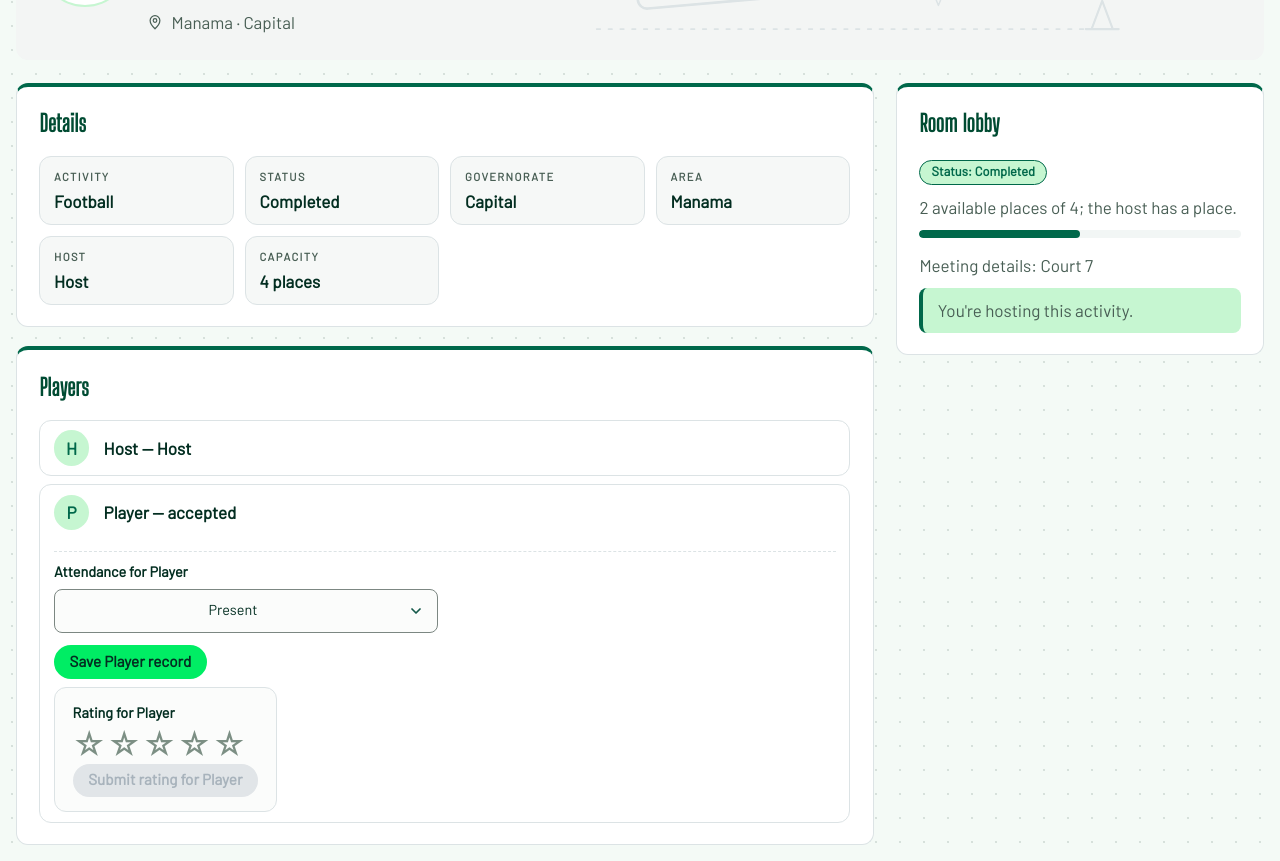
it: room lobby access and admission › host rating › shows the backend detail when the player was already rated (409)
(page scrolled)
Click the radio button named "3 stars": (159,743) [143,727,176,759]
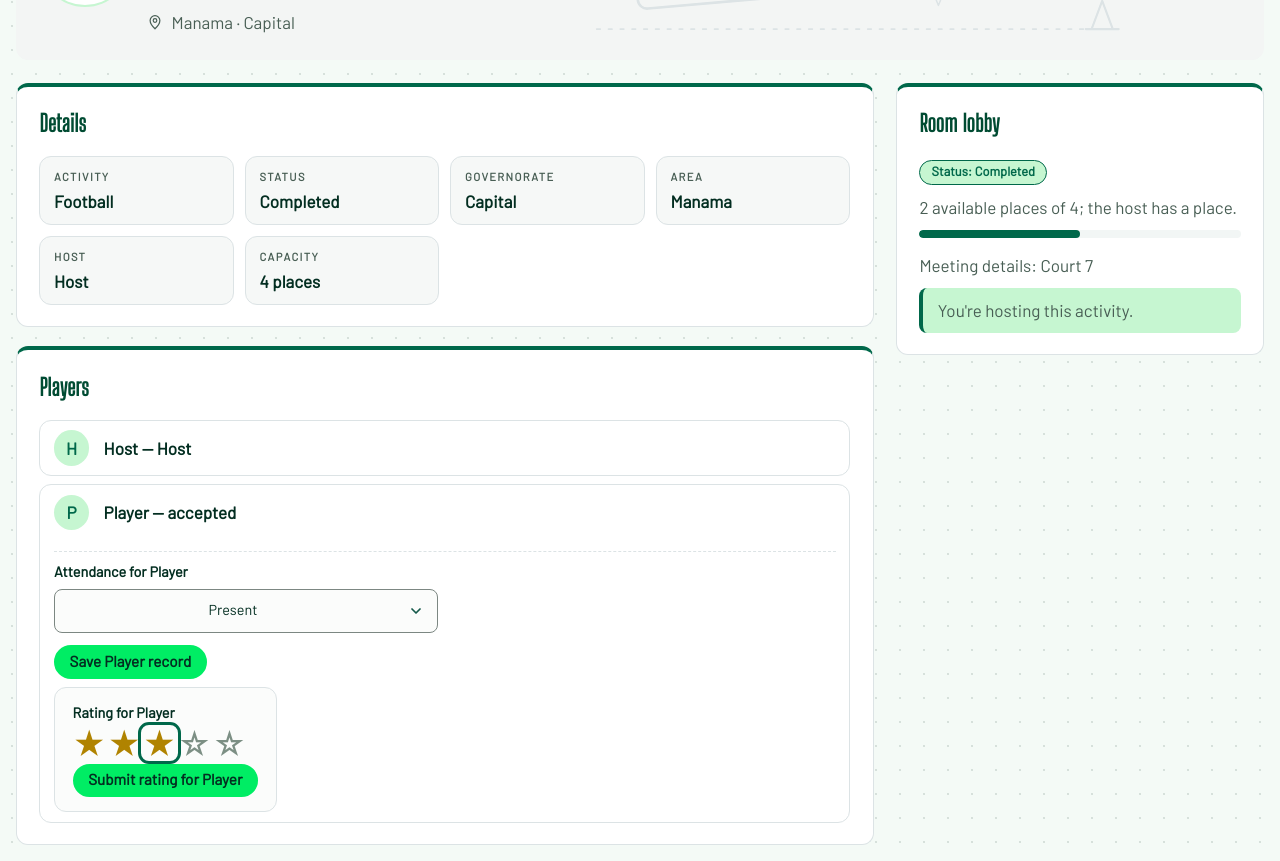
Click the button "Submit rating for Player": (165,780) [73,764,258,797]
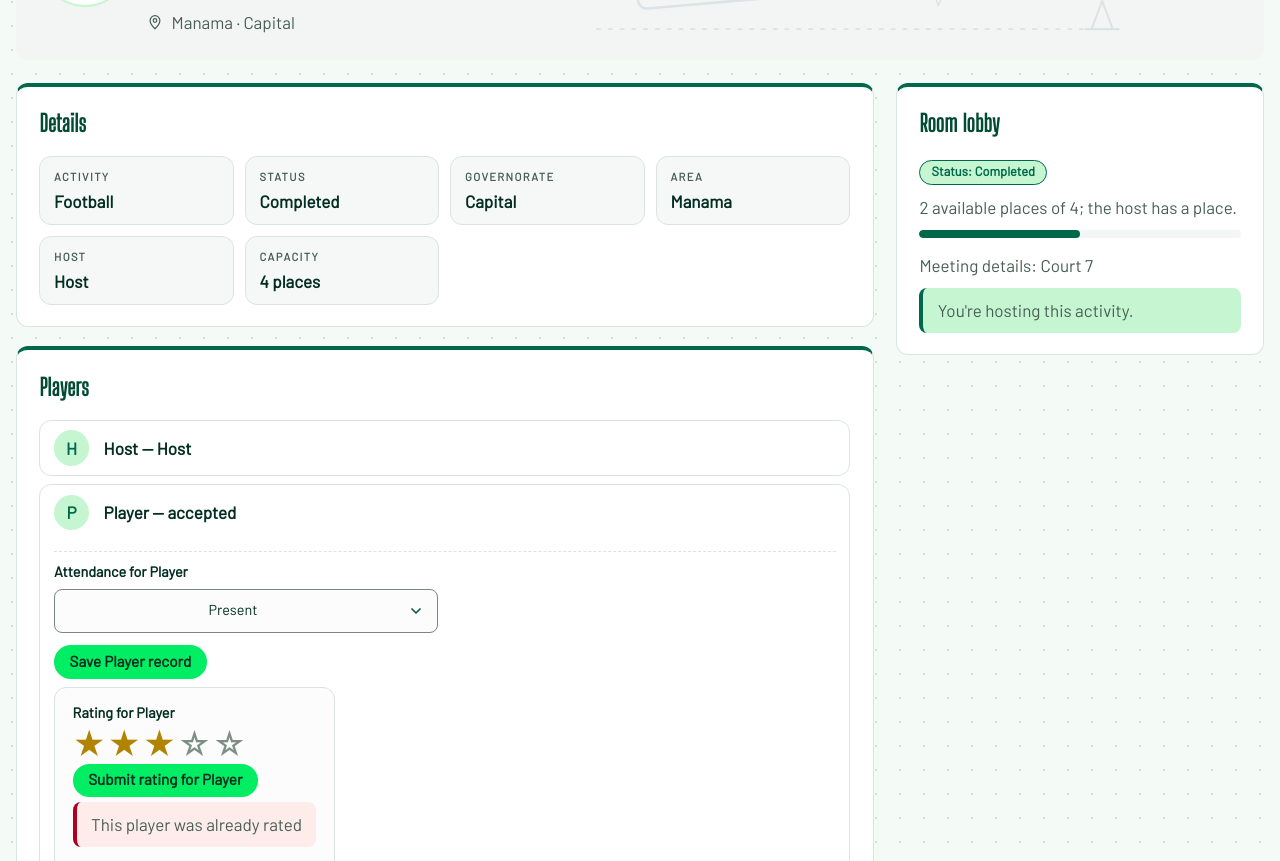
Expected: the text "This player was already rated" is shown, [73,802,316,847]
